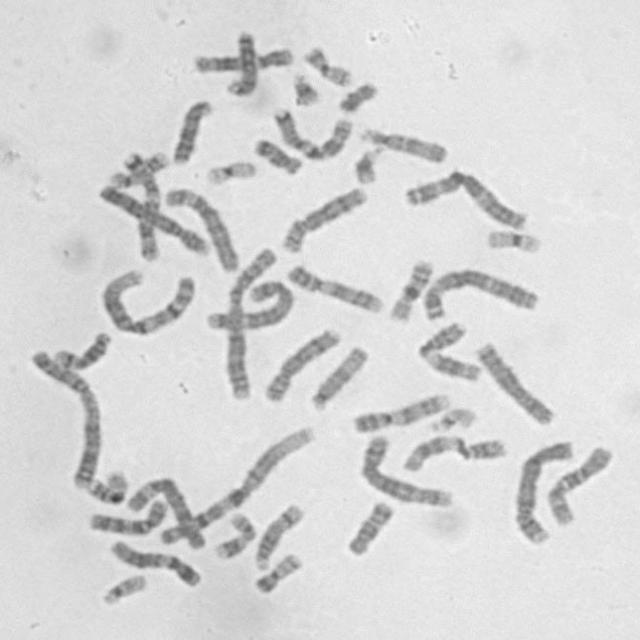A1: (153, 421, 319, 548), (95, 264, 199, 337)
A2: (25, 345, 103, 490), (220, 241, 280, 402)
A3: (400, 164, 530, 232), (418, 264, 542, 322)
B4: (93, 180, 213, 258), (508, 435, 577, 547)
B5: (357, 429, 457, 509), (202, 273, 298, 331)
C10: (543, 440, 616, 528), (83, 494, 172, 536)
C11: (413, 316, 483, 384), (397, 432, 510, 474)
C12: (105, 535, 204, 588), (189, 42, 295, 74)
C6: (160, 182, 241, 274), (122, 472, 207, 550)
C7: (117, 146, 164, 262), (268, 103, 354, 161)
C8: (258, 323, 343, 404), (276, 182, 370, 255)
C9: (281, 259, 387, 315), (348, 388, 451, 434)
D13: (168, 94, 215, 166), (220, 24, 260, 98)
D14: (252, 499, 306, 571), (49, 325, 114, 371)
D15: (306, 342, 370, 412), (356, 122, 451, 164)
E16: (385, 255, 436, 323), (81, 466, 131, 505)
E17: (103, 146, 171, 190), (210, 508, 258, 560)
E18: (342, 496, 396, 558), (249, 133, 305, 176)
F19: (482, 224, 545, 256), (202, 156, 259, 187)
F20: (299, 40, 356, 88), (250, 548, 305, 595)
G21: (349, 141, 386, 185), (288, 68, 322, 107)
G22: (97, 569, 149, 607), (425, 402, 479, 434)
X: (472, 337, 559, 427)
Y: (334, 77, 380, 114)
